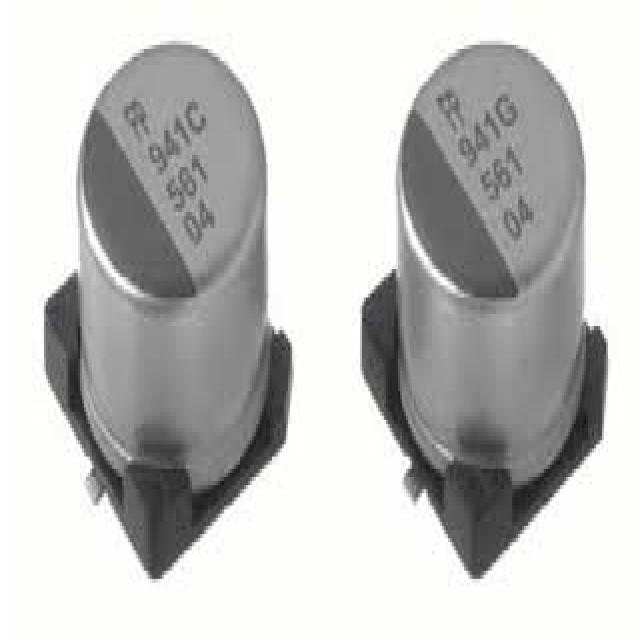Capacitor: (42, 45, 294, 583), (360, 45, 608, 579)
